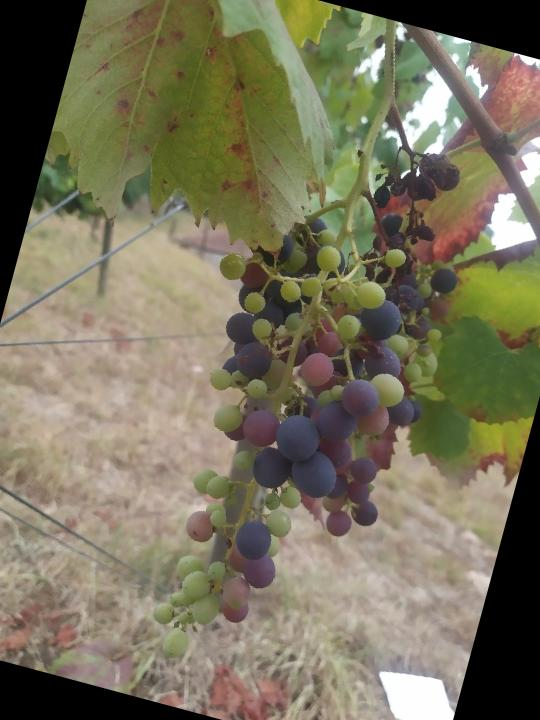grape: (115, 194, 468, 711), (346, 139, 468, 298)
